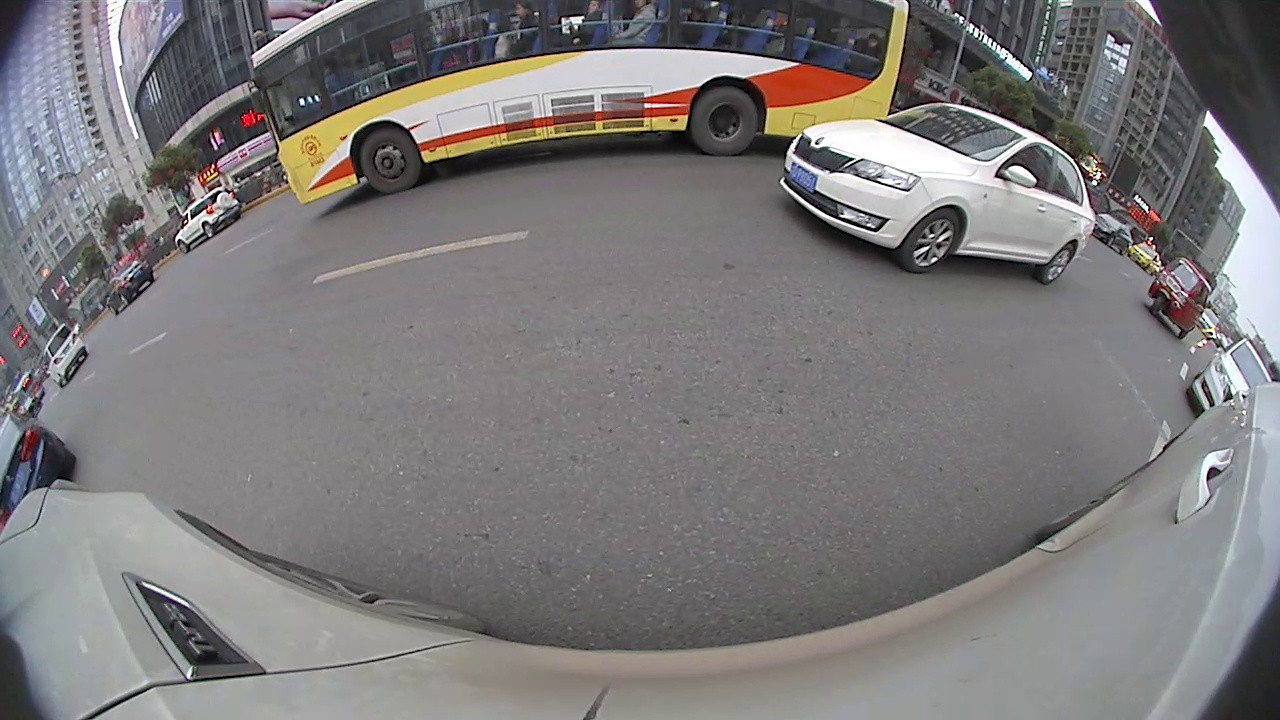bus: (239, 1, 913, 207)
car: (778, 99, 1095, 284), (1, 413, 80, 532), (1183, 336, 1278, 412), (173, 185, 243, 254), (38, 324, 91, 388), (102, 258, 157, 316)
front: (359, 127, 424, 196), (899, 206, 962, 276), (177, 238, 191, 256)
rear: (694, 85, 763, 157), (1037, 242, 1076, 287), (201, 222, 214, 240)
rider: (1146, 256, 1212, 338)
